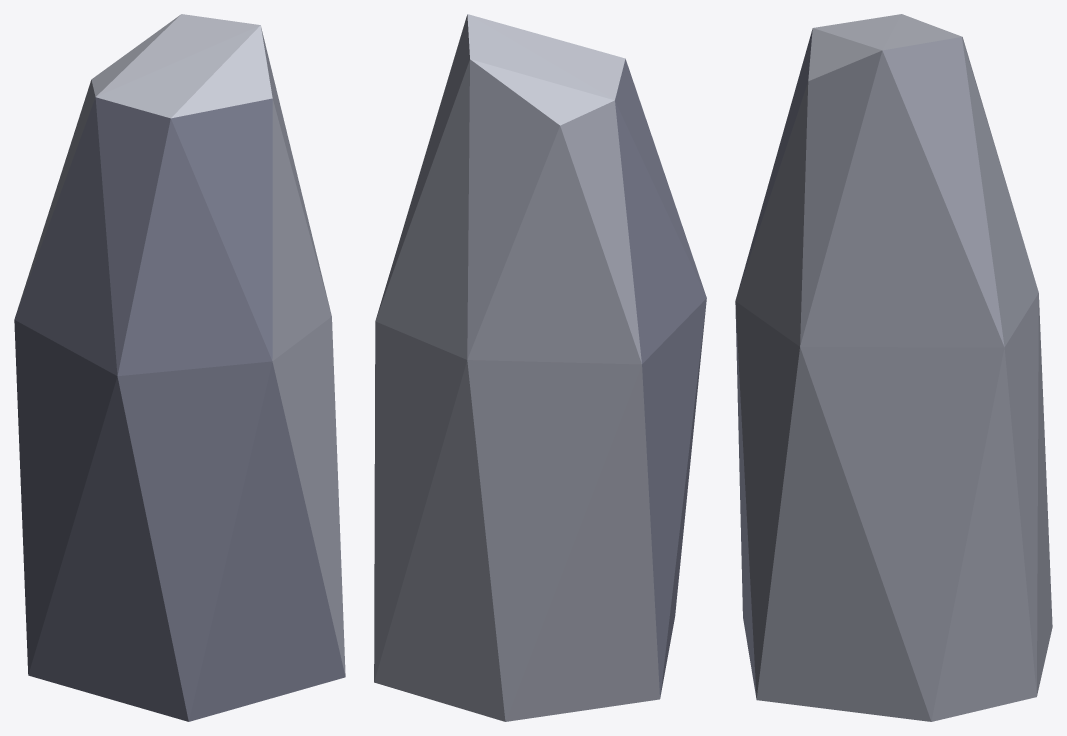
The model's file is stone_tallI.glb.
The picture shows the model from 3 angles, left to right: view 1: azimuth 30°, elevation 25°; view 2: azimuth 150°, elevation 25°; view 3: azimuth 270°, elevation 25°; orthographic projection. The views are drawn at different scales.
Visible parts, largest first — view 1: stone_tallI; view 2: stone_tallI; view 3: stone_tallI.
Part boxes in pixels (x1,y1,x2,y2): stone_tallI: (14, 14, 345, 721); stone_tallI: (374, 14, 706, 721); stone_tallI: (735, 14, 1052, 721).
Size of the model in its own units: 0.3789 by 0.7956 by 0.3588.
1 material, 1 textured.
